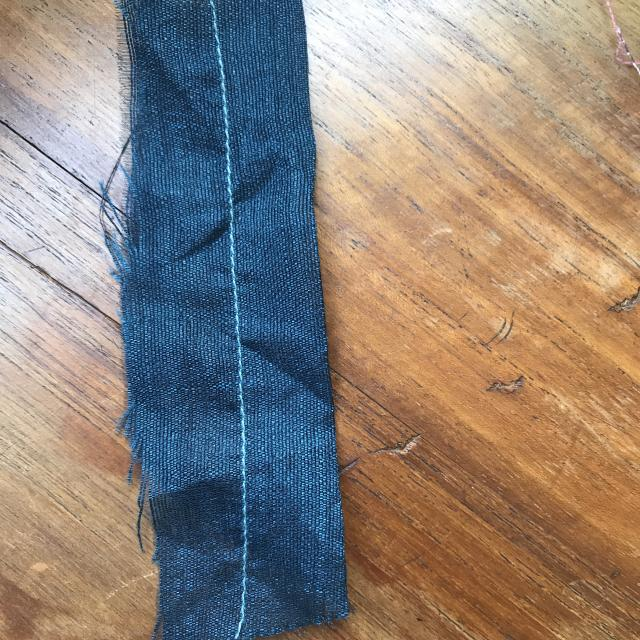good: (218, 214, 259, 372)
